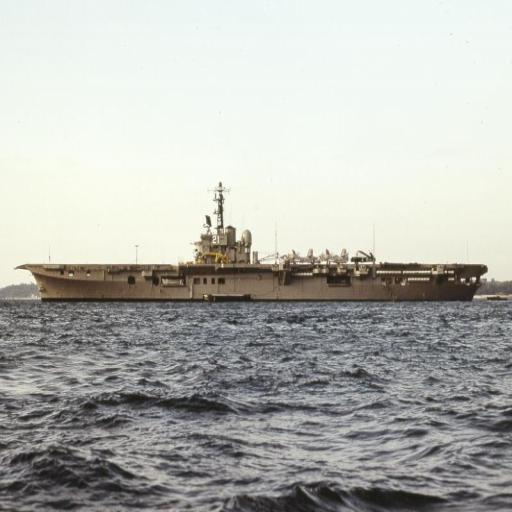Portanaves: (9, 176, 495, 311)
